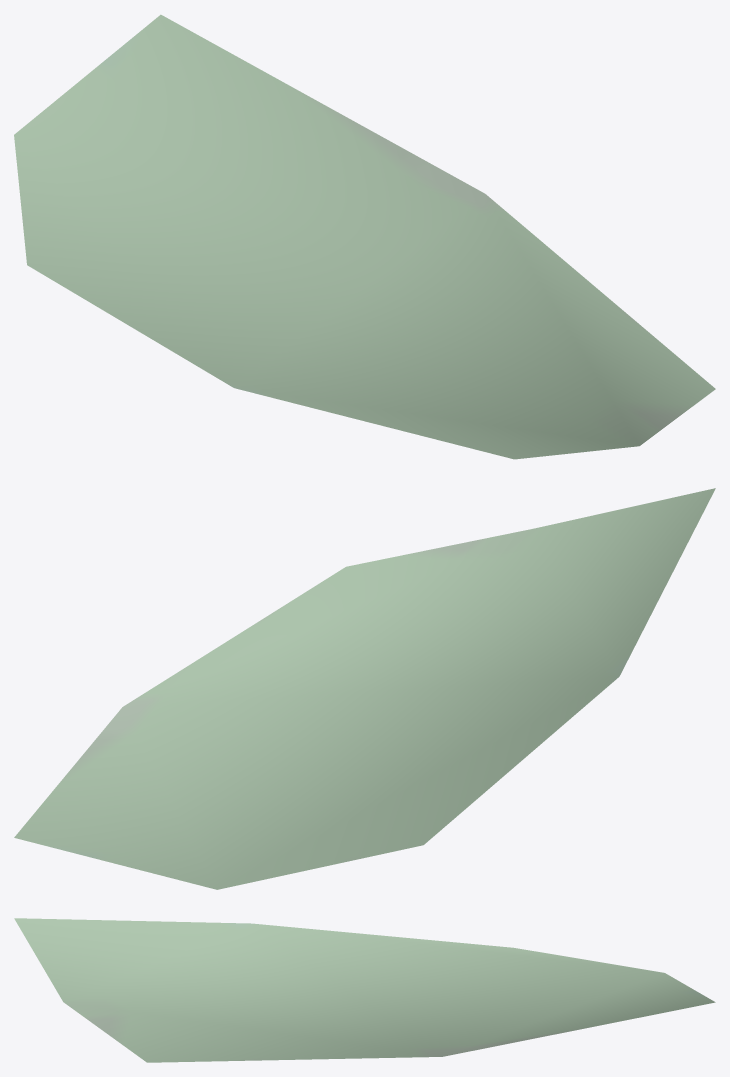
Rendered from TROLLHOLE02_HOLECAP50.fbx.
The picture shows the model from 3 angles, top to bottom: view 1: azimuth 30°, elevation 25°; view 2: azimuth 150°, elevation 25°; view 3: azimuth 270°, elevation 25°; orthographic projection. The views are drawn at different scales.
Parts seen in each view (by area): view 1: TROLLHOLE02_HOLECAP50; view 2: TROLLHOLE02_HOLECAP50; view 3: TROLLHOLE02_HOLECAP50.
Part boxes in pixels (x1,y1,x2,y2): TROLLHOLE02_HOLECAP50: (14,14,715,459); TROLLHOLE02_HOLECAP50: (14,488,715,889); TROLLHOLE02_HOLECAP50: (14,918,715,1062).
Bounding box in the file's own units: 16850 × 3415 × 41167.
Materials: 1 (1 with a texture image).
